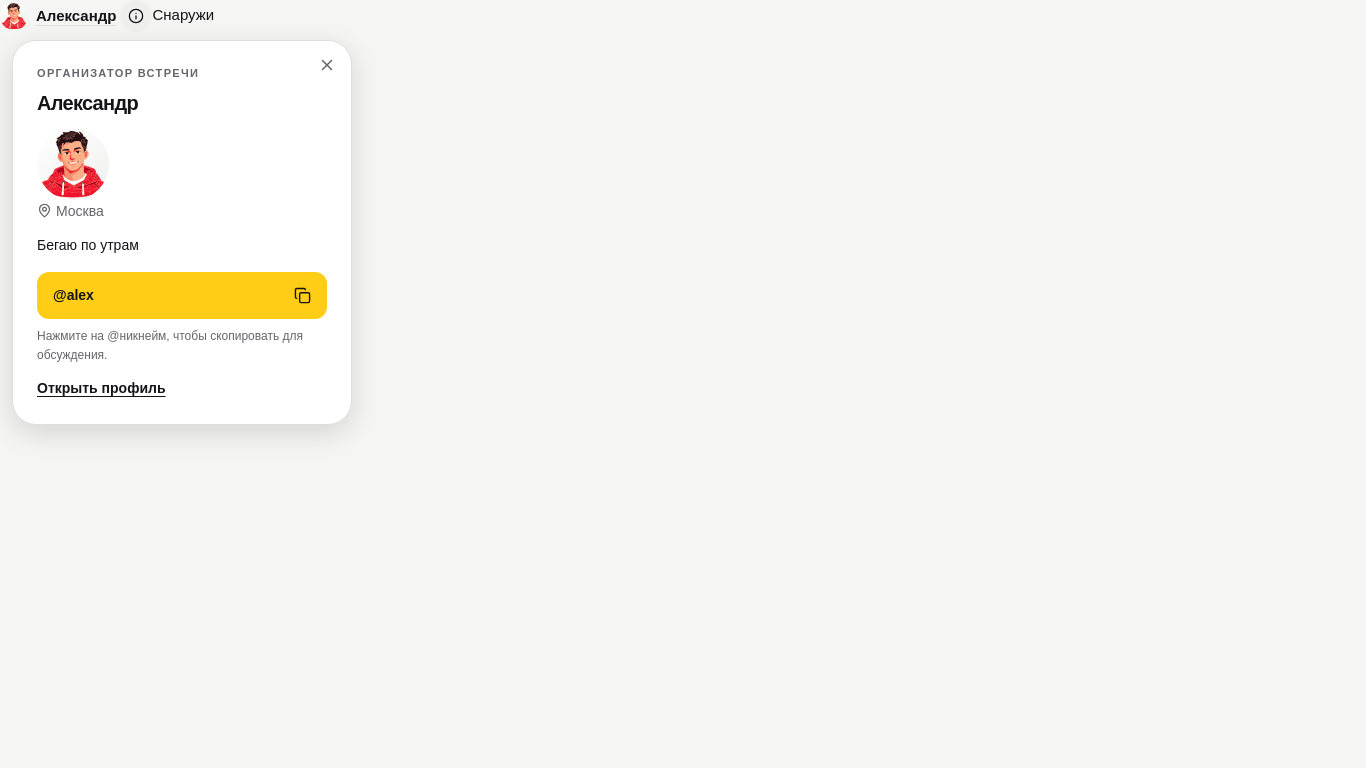
Test: organizer preview › offers manual selection when copying is denied, without reporting success
Click the button named "Краткая информация: Александр" at (136, 16), box left=120, top=0, right=152, bottom=32
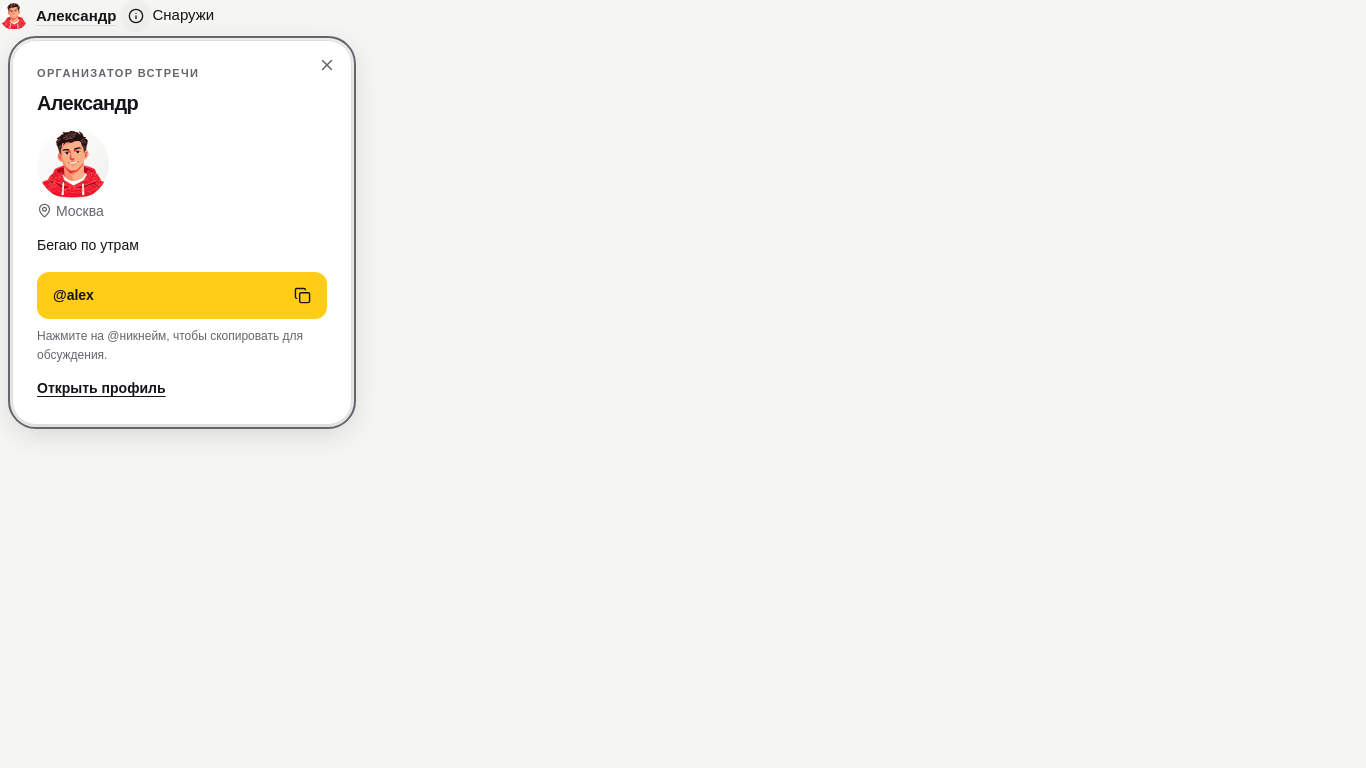
Click the button with aria-label "Скопировать @alex" at (73, 295), box left=37, top=272, right=327, bottom=319
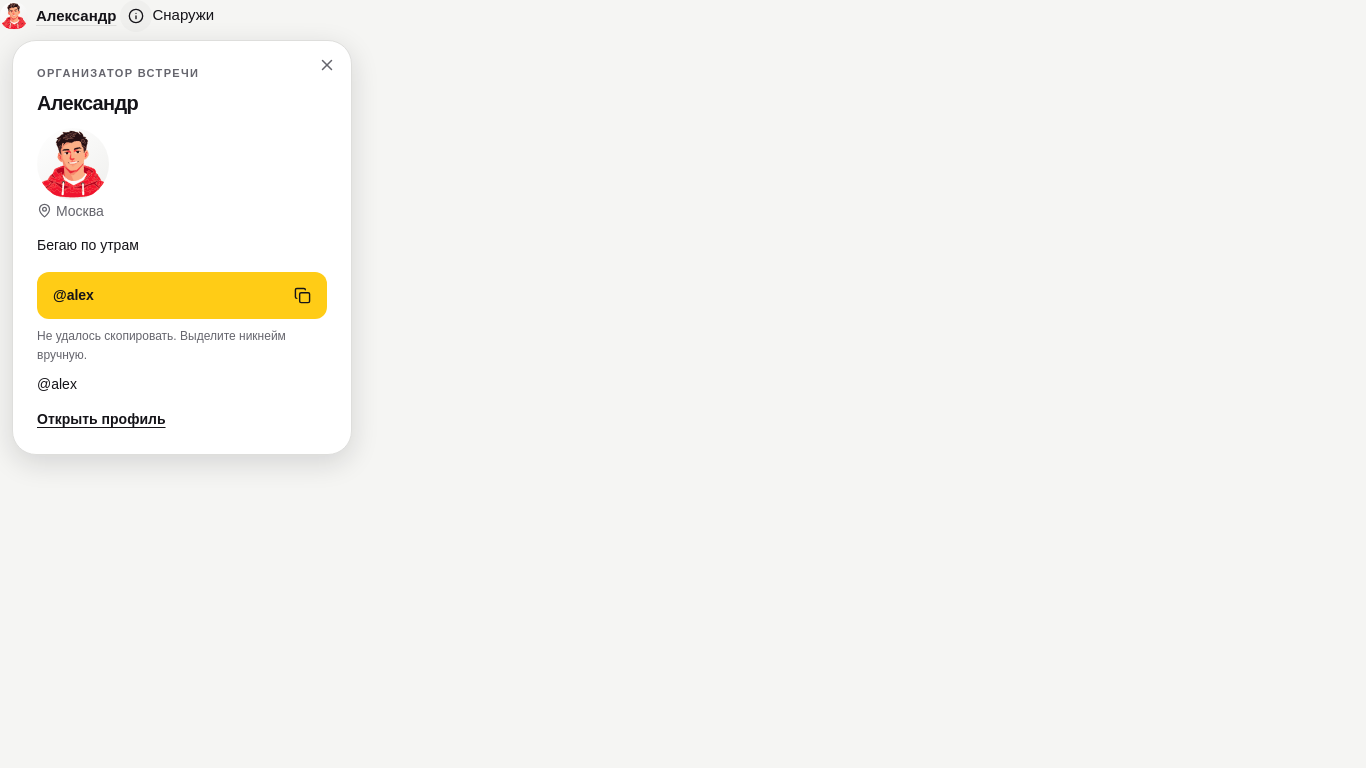
expect the dialog is shown: met, box left=12, top=40, right=352, bottom=455
expect the field named "Никнейм для ручного копирования" holds "@alex": met, box left=37, top=373, right=327, bottom=396
